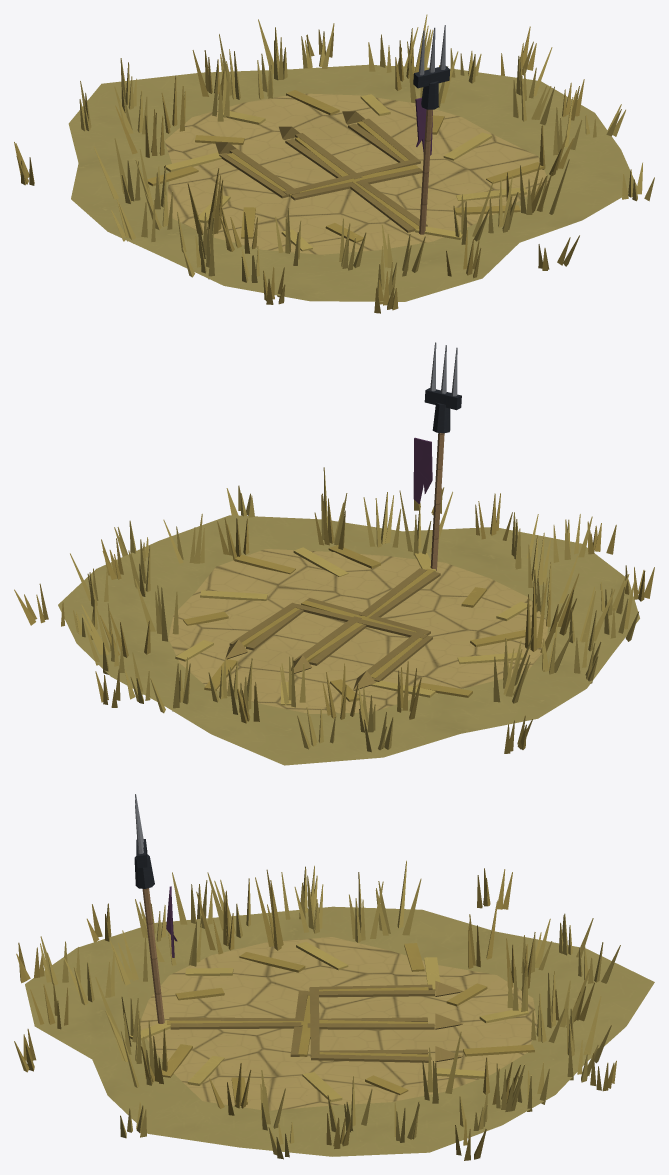
File: rakehand_trample.glb
3 renders of one model, top to bottom at view 1: azimuth 30°, elevation 25°; view 2: azimuth 150°, elevation 25°; view 3: azimuth 270°, elevation 25°, orthographic. The views are drawn at different scales.
Parts seen in each view (by area): view 1: rakehand_trample.001; view 2: rakehand_trample.001; view 3: rakehand_trample.001.
Part boxes in pixels (x1,y1,x2,y2): rakehand_trample.001: [14, 14, 654, 313]; rakehand_trample.001: [14, 342, 654, 765]; rakehand_trample.001: [14, 794, 654, 1160].
Bounding box in the file's own units: 4.86 × 2.21 × 4.98.
Materials: 9 (9 with a texture image).
